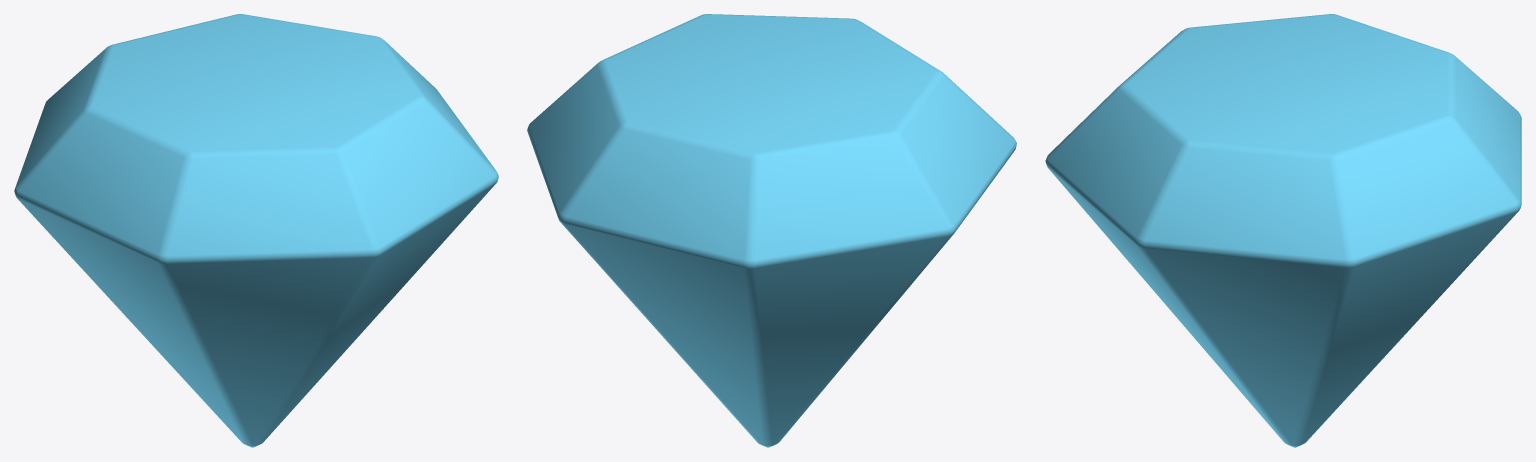
Rendered from gem.fbx.
3 renders of one model, left to right at view 1: azimuth 30°, elevation 25°; view 2: azimuth 150°, elevation 25°; view 3: azimuth 270°, elevation 25°, orthographic.
Parts seen in each view (by area): view 1: Cone; view 2: Cone; view 3: Cone.
Part boxes in pixels (<box>): Cone: <box>14,14,498,447</box>; Cone: <box>527,14,1016,447</box>; Cone: <box>1045,14,1521,447</box>.
Bounding box in the file's own units: 107 × 88.08 × 105.
